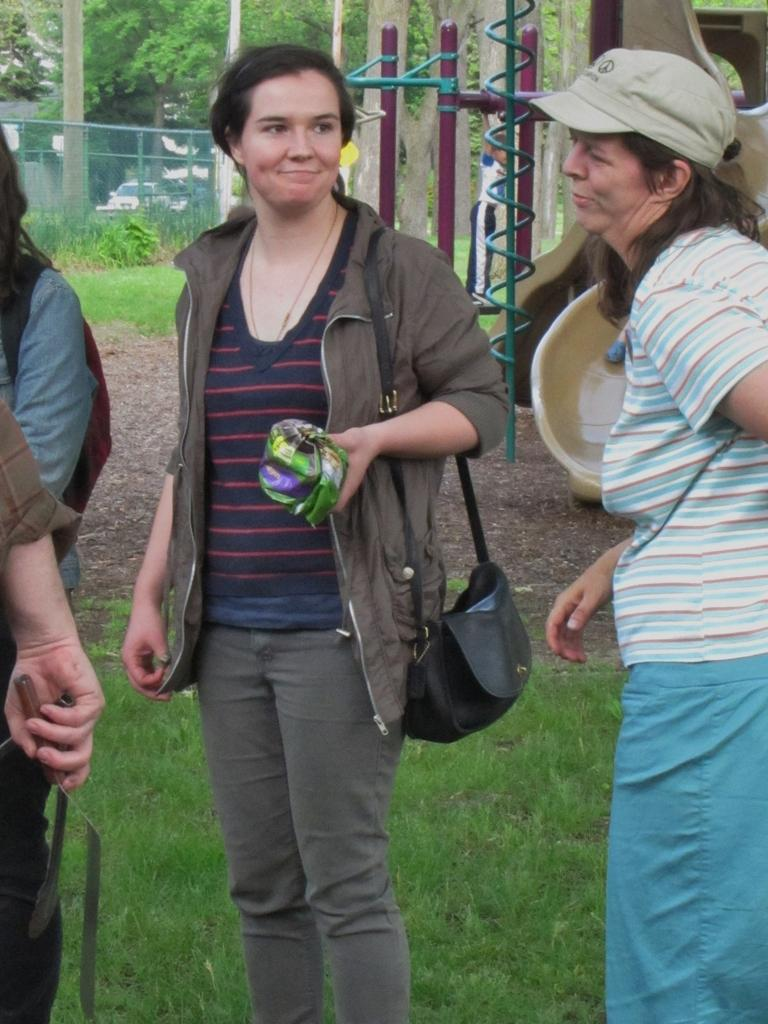Hat: (528, 41, 746, 170)
